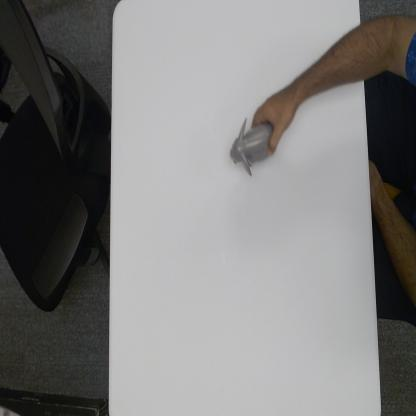Arm: (298, 23, 364, 97)
Elephant: (230, 114, 277, 177)
Hand: (252, 86, 298, 158)
